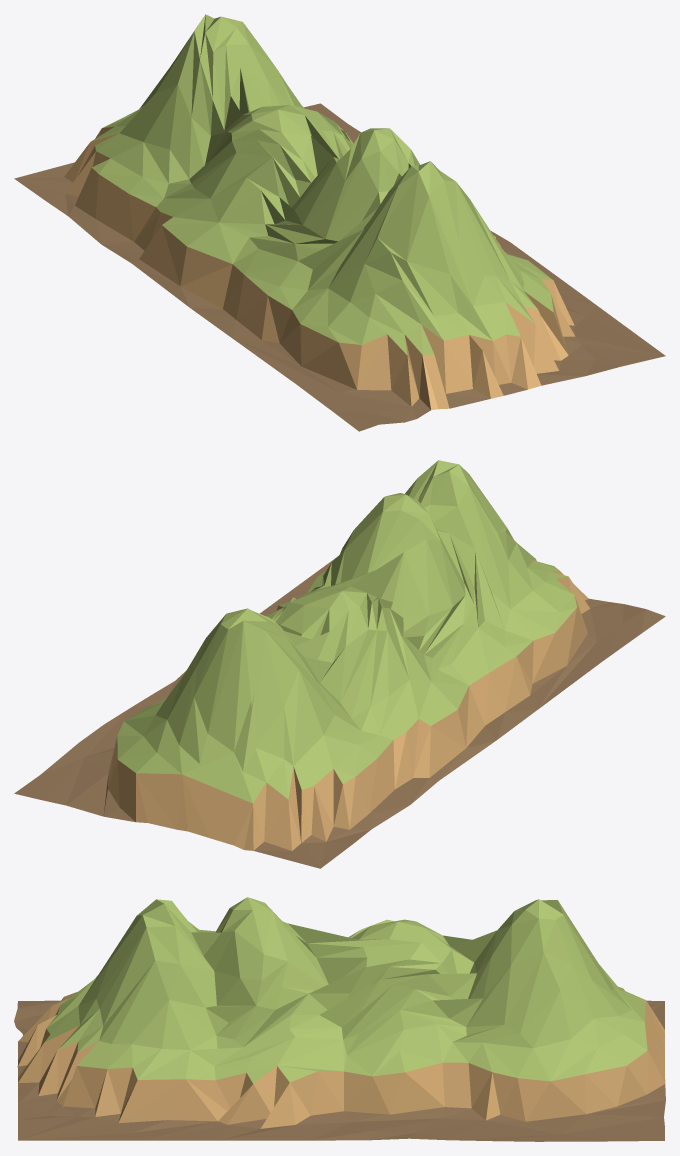
The model's file is landscape.10.fbx.
3 renders of one model, top to bottom at view 1: azimuth 30°, elevation 25°; view 2: azimuth 150°, elevation 25°; view 3: azimuth 270°, elevation 25°, orthographic. The views are drawn at different scales.
Parts seen in each view (by area): view 1: landscape.10; view 2: landscape.10; view 3: landscape.10.
Boxes of the visible parts, <box> form: landscape.10: <box>14,14,665,431</box>; landscape.10: <box>14,460,665,868</box>; landscape.10: <box>14,897,665,1141</box>.
Size of the model in its own units: 3408 by 1872 by 6603.
